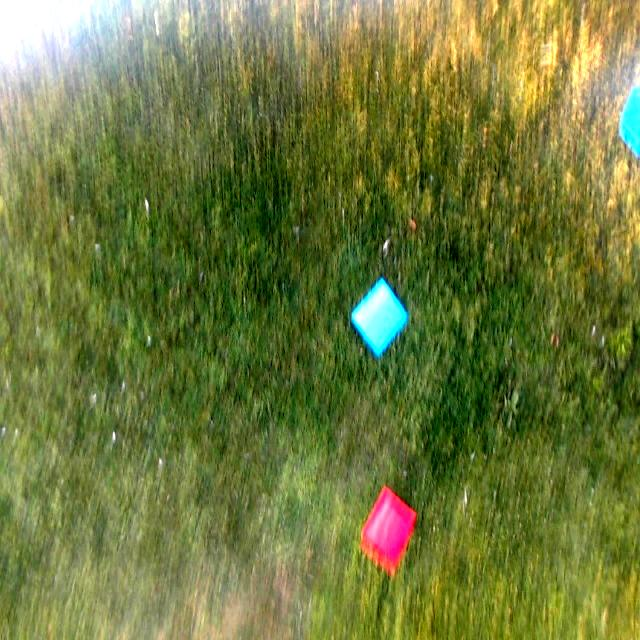blue_square: (351, 279, 408, 354)
red_square: (361, 486, 415, 567)
